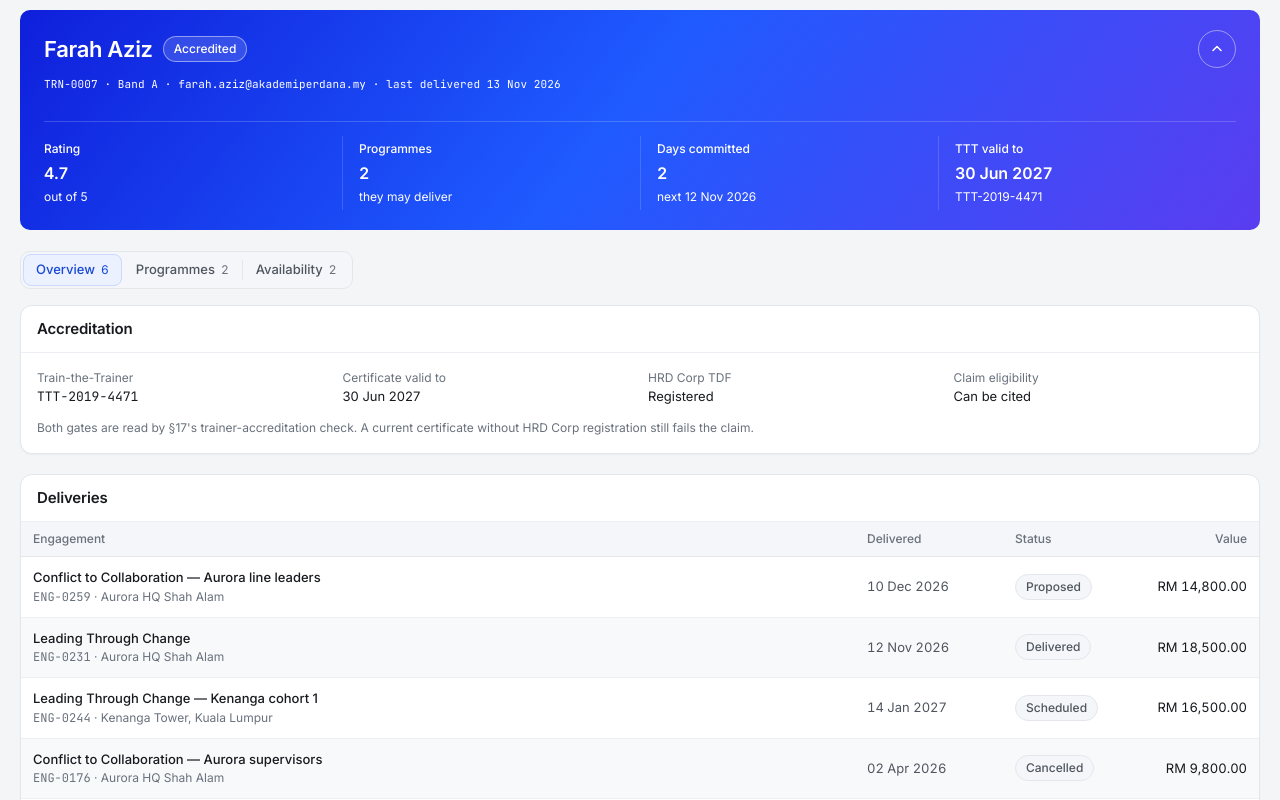
Test: M08-S02 · the trainer record › shows the committed diary, marking what is past
Expected: the heading "Farah Aziz" is shown, left=44, top=32, right=153, bottom=66
Click the tab "Availability 2".
click(296, 270)  # box left=243, top=254, right=350, bottom=286
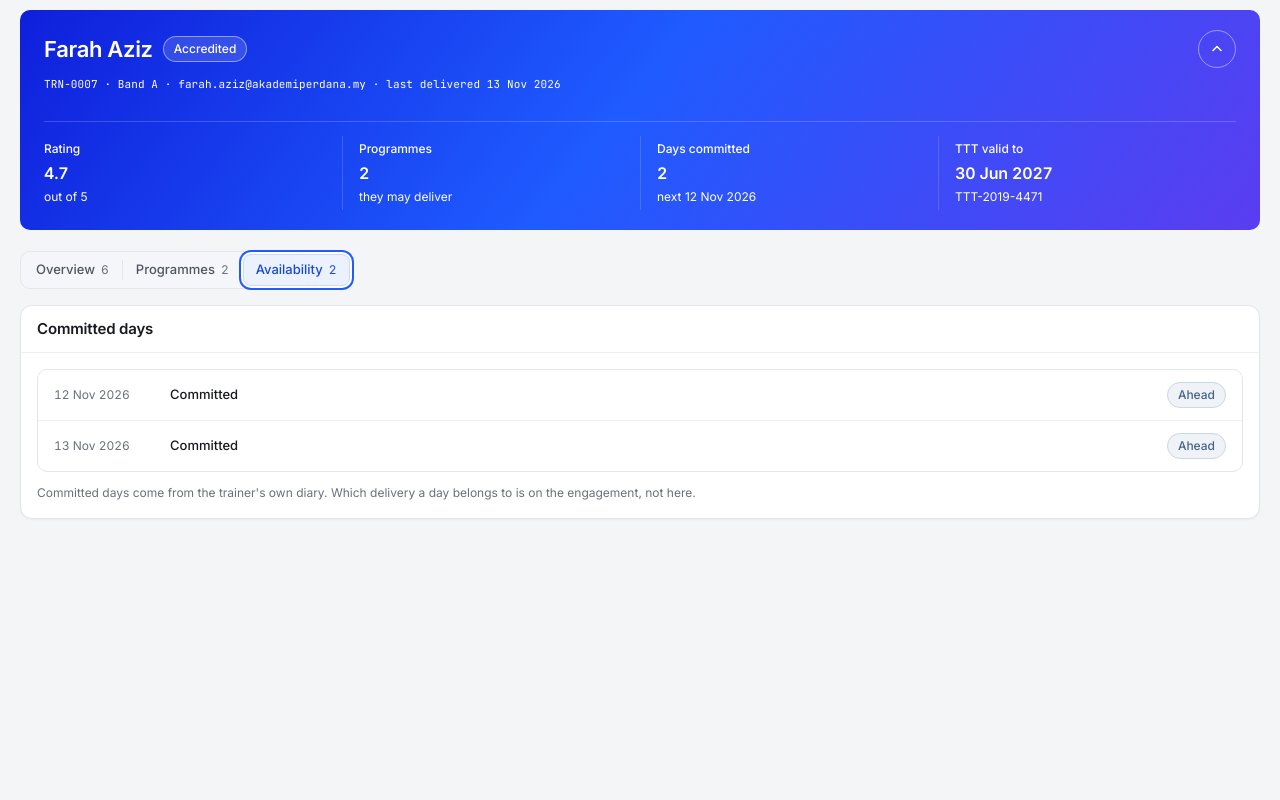
Expected: the text "Ahead" is shown 2 times, left=1167, top=382, right=1226, bottom=408; left=1167, top=433, right=1226, bottom=459
